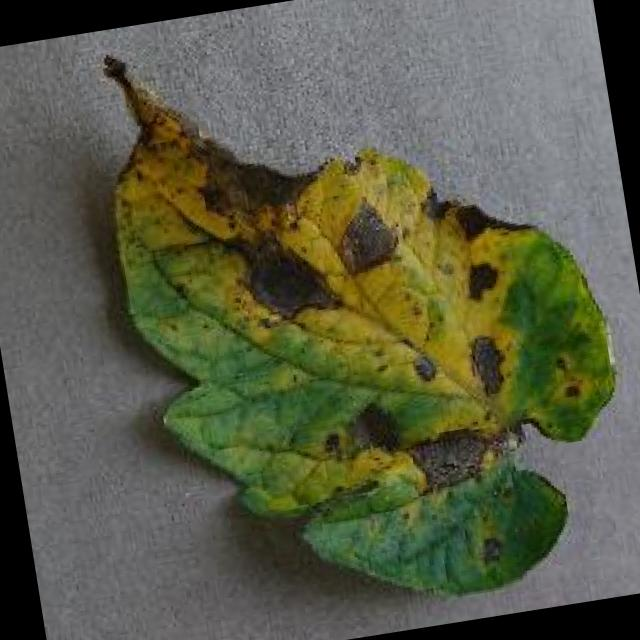Tomato_Early_Blight: (50, 0, 640, 637)
